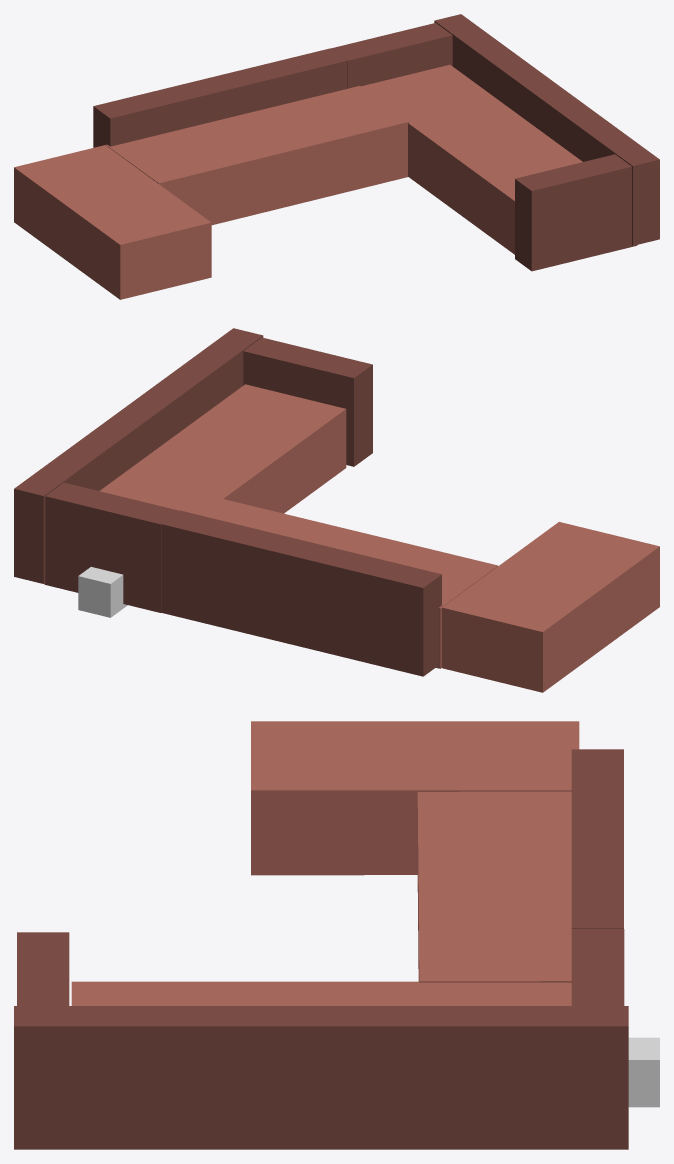
The model's file is couch_living_room.fbx.
3 renders of one model, top to bottom at view 1: azimuth 30°, elevation 25°; view 2: azimuth 150°, elevation 25°; view 3: azimuth 270°, elevation 25°, orthographic. The views are drawn at different scales.
Visible parts, largest first — view 1: Würfel.002, Würfel.003, Würfel.001, Würfel, Cube.002, Cube.001, Cube; view 2: Cube.002, Würfel.003, Würfel.001, Würfel, Cube, Cube.001, Würfel.002, Würfel.004; view 3: Würfel, Würfel.003, Würfel.002, Würfel.001, Cube.002, Cube, Cube.001, Würfel.004.
Boxes of the visible parts, box(x1,y1,x2,y2) form: Würfel.002: box(106, 86, 409, 225); Würfel.003: box(14, 145, 211, 299); Würfel.001: box(361, 64, 582, 254); Würfel: box(434, 14, 659, 245); Cube.002: box(93, 48, 347, 147); Cube.001: box(515, 154, 637, 271); Cube: box(331, 23, 452, 88); Cube.002: box(161, 510, 441, 676); Würfel.003: box(442, 522, 659, 692); Würfel.001: box(99, 384, 346, 514); Würfel: box(14, 328, 263, 583); Cube: box(44, 482, 179, 612); Cube.001: box(243, 337, 372, 466); Würfel.002: box(198, 498, 497, 668); Würfel.004: box(78, 567, 127, 617); Würfel: box(14, 1006, 628, 1149); Würfel.003: box(251, 721, 579, 875); Würfel.002: box(417, 791, 571, 982); Würfel.001: box(71, 981, 571, 1005); Cube.002: box(571, 749, 623, 928); Cube: box(571, 929, 624, 1005); Cube.001: box(17, 932, 69, 1005); Würfel.004: box(628, 1037, 659, 1107).
Size of the model in its own units: 3154 by 558 by 2464.
